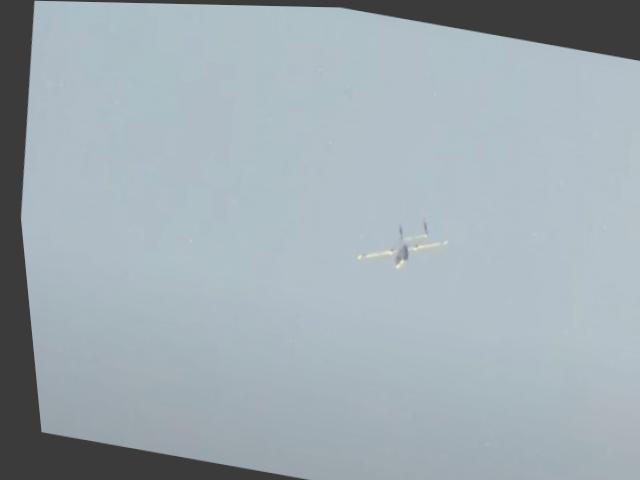iha: (338, 200, 459, 283)
